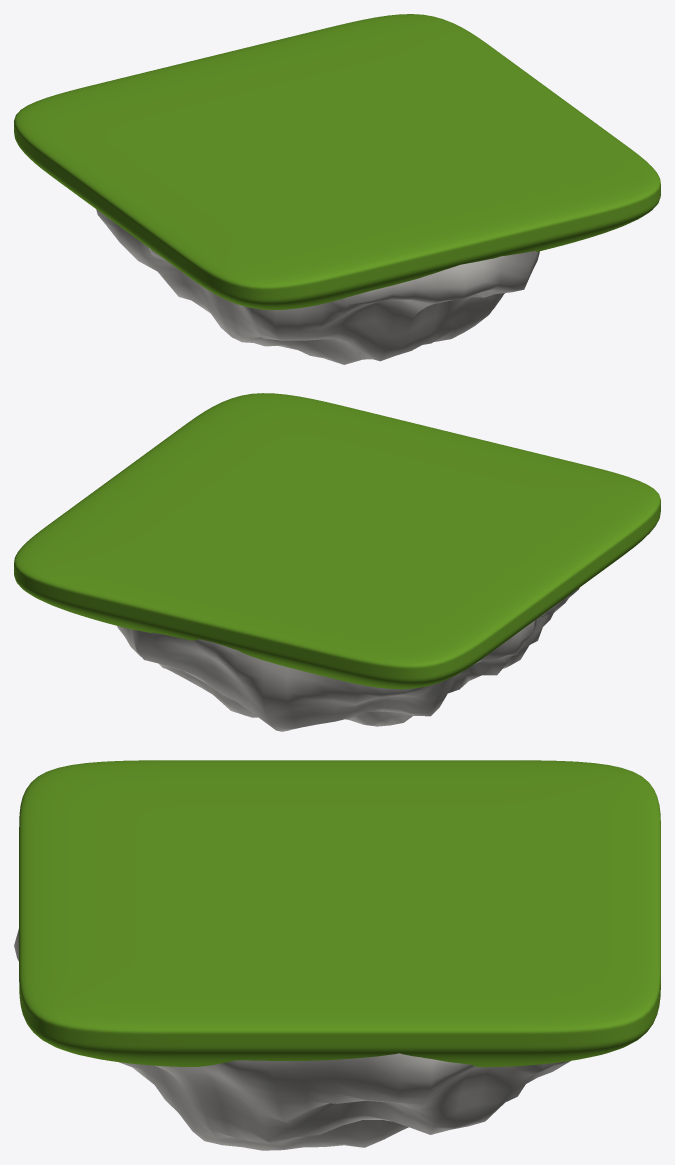
Rendered from square_platform.fbx.
3 renders of one model, top to bottom at view 1: azimuth 30°, elevation 25°; view 2: azimuth 150°, elevation 25°; view 3: azimuth 270°, elevation 25°, orthographic. The views are drawn at different scales.
Parts seen in each view (by area): view 1: Rock; view 2: Rock; view 3: Rock.
Part boxes in pixels (<box>): Rock: <box>14,14,660,364</box>; Rock: <box>14,393,660,731</box>; Rock: <box>14,760,660,1150</box>.
Bounding box in the file's own units: 600 × 249 × 605.
